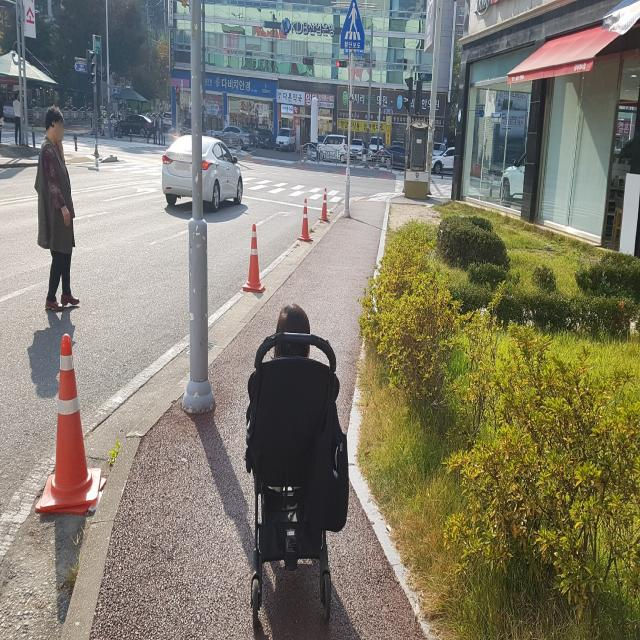횡단보도: (233, 179, 349, 209), (394, 175, 485, 198)
